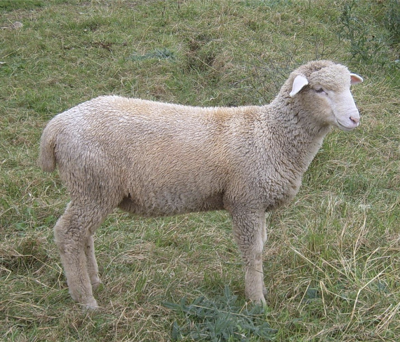koyun: (39, 59, 362, 316)
